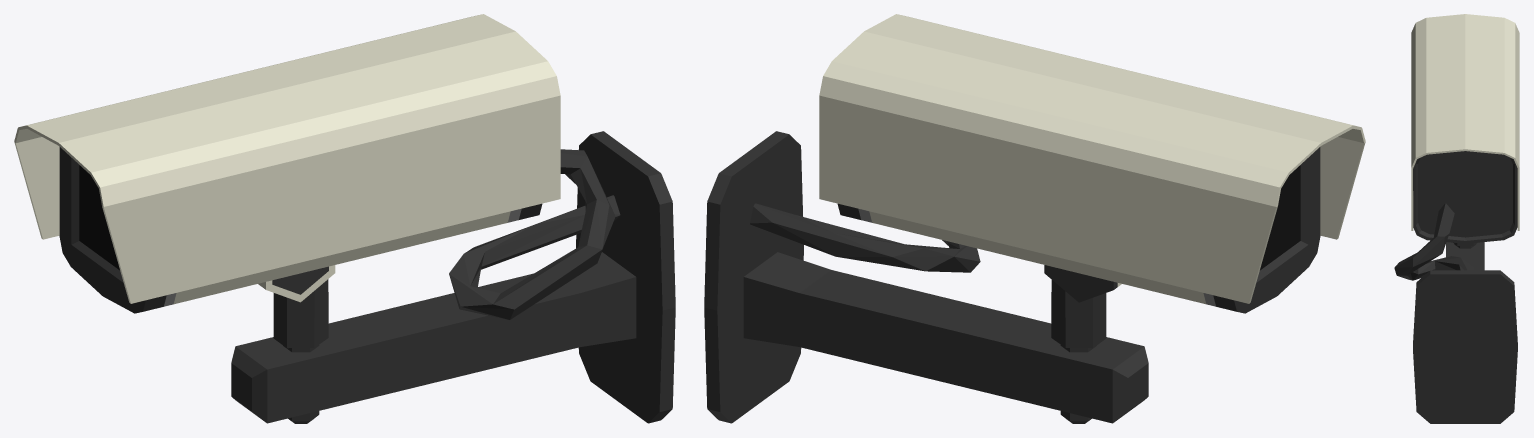
Rendered from SecurityCamera.glb.
3 renders of one model, left to right at view 1: azimuth 30°, elevation 25°; view 2: azimuth 150°, elevation 25°; view 3: azimuth 270°, elevation 25°, orthographic. The views are drawn at different scales.
Visible parts, largest first — view 1: NurbsPath; view 2: NurbsPath; view 3: NurbsPath.
Part boxes in pixels (x1=…): NurbsPath: x1=14, y1=14, x2=675, y2=423; NurbsPath: x1=704, y1=14, x2=1365, y2=423; NurbsPath: x1=1394, y1=14, x2=1519, y2=423.
Bounding box in the file's own units: 4.04 × 2.67 × 1.26.
